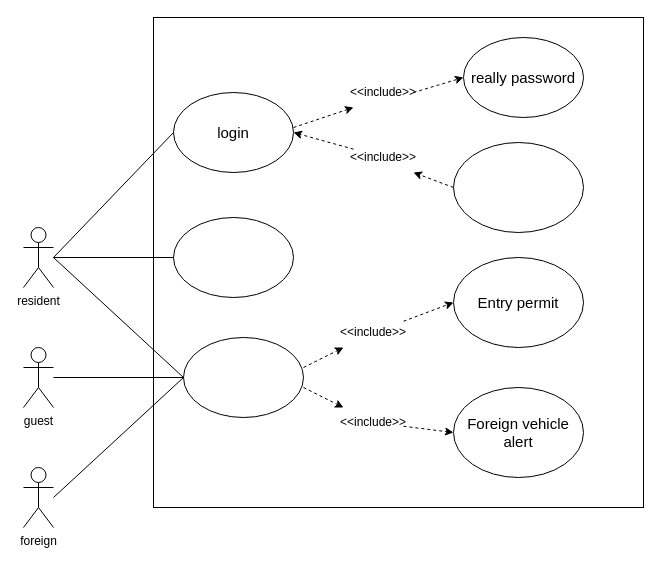
This 661x566 diagram has some shape labels left out. The centre of each missing label's shape, as x and y in pixels:
"Display login Error" belongs at point (518, 187).
"System management" belongs at point (233, 257).
"Vehicle identification" belongs at point (243, 377).
